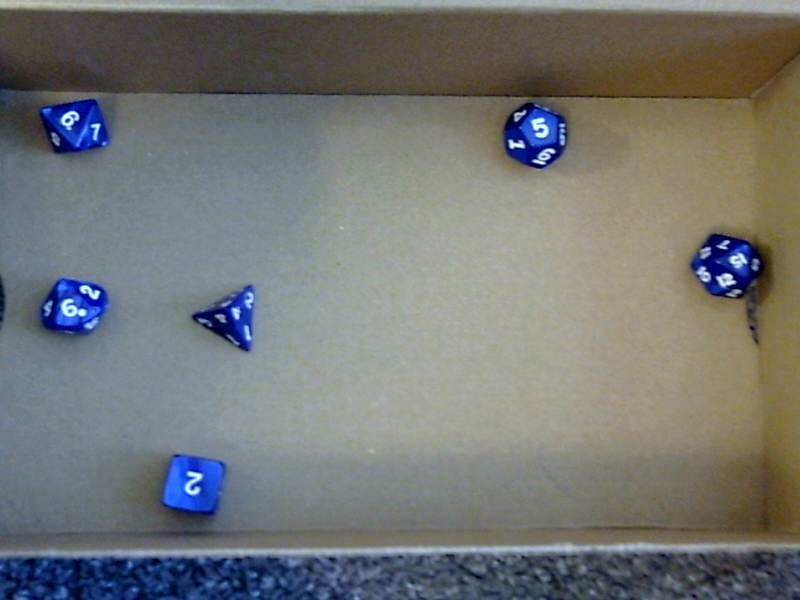d10 6: (32, 277, 119, 341)
d12 5: (494, 92, 577, 176)
d20 15: (684, 226, 767, 302)
d4 4: (192, 283, 259, 353)
d6 2: (158, 452, 231, 519)
d8 6: (35, 96, 118, 157)
